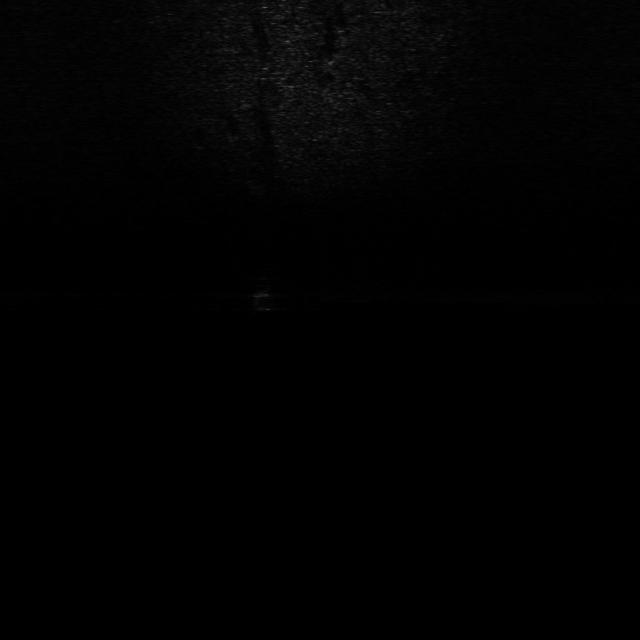human body: (244, 269, 284, 316)
